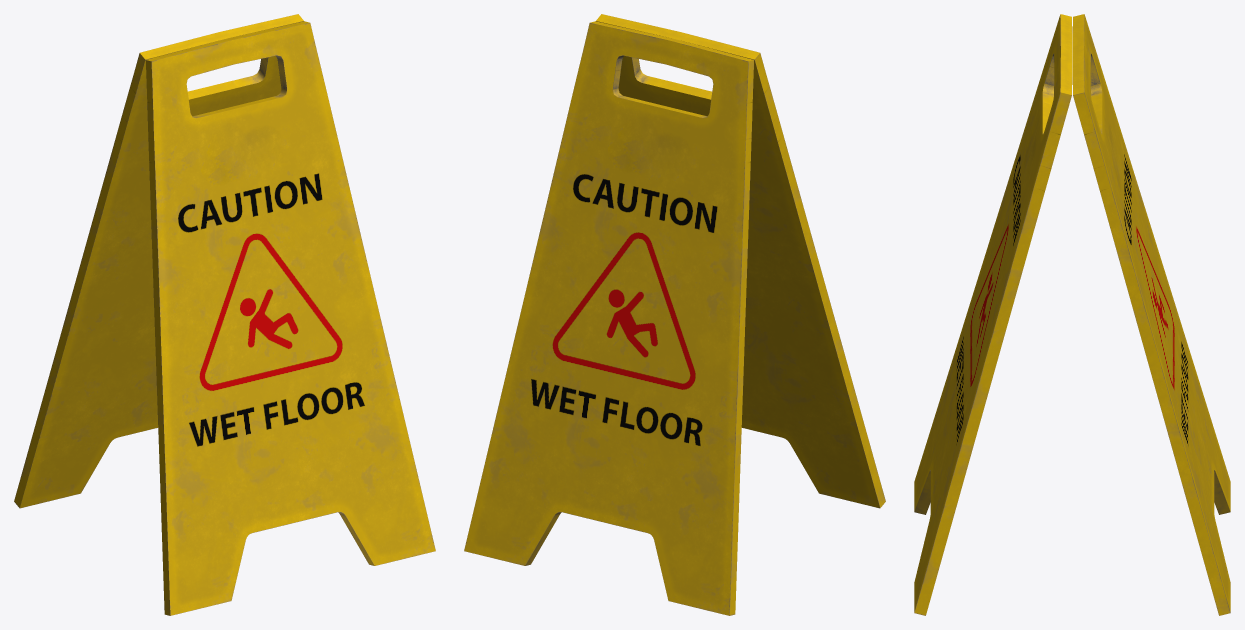
Rendered from Wet floor.fbx.
The picture shows the model from 3 angles, left to right: view 1: azimuth 30°, elevation 25°; view 2: azimuth 150°, elevation 25°; view 3: azimuth 270°, elevation 25°; orthographic projection.
Visible parts, largest first — view 1: Wet floor; view 2: Wet floor; view 3: Wet floor.
Part boxes in pixels (x1,y1,x2,y2): Wet floor: (14, 14, 435, 615); Wet floor: (464, 14, 885, 615); Wet floor: (914, 14, 1230, 615).
Size of the model in its own units: 32.98 by 58.49 by 33.63.
1 material, 1 textured.
